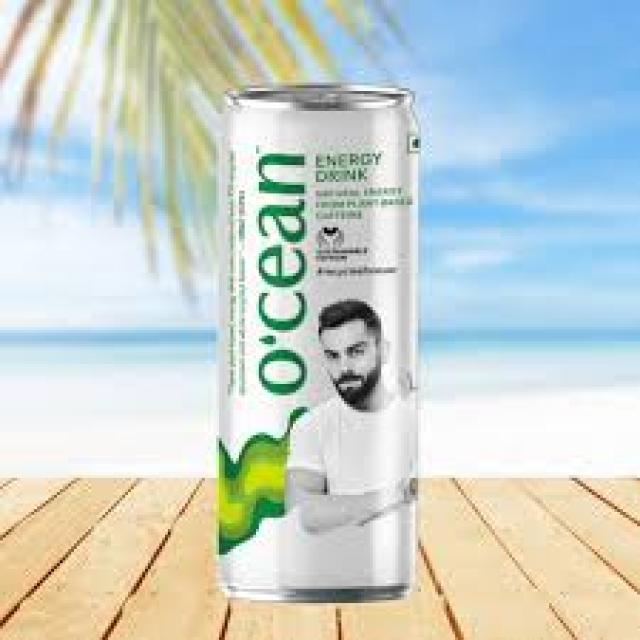Cans: (210, 80, 424, 606)
